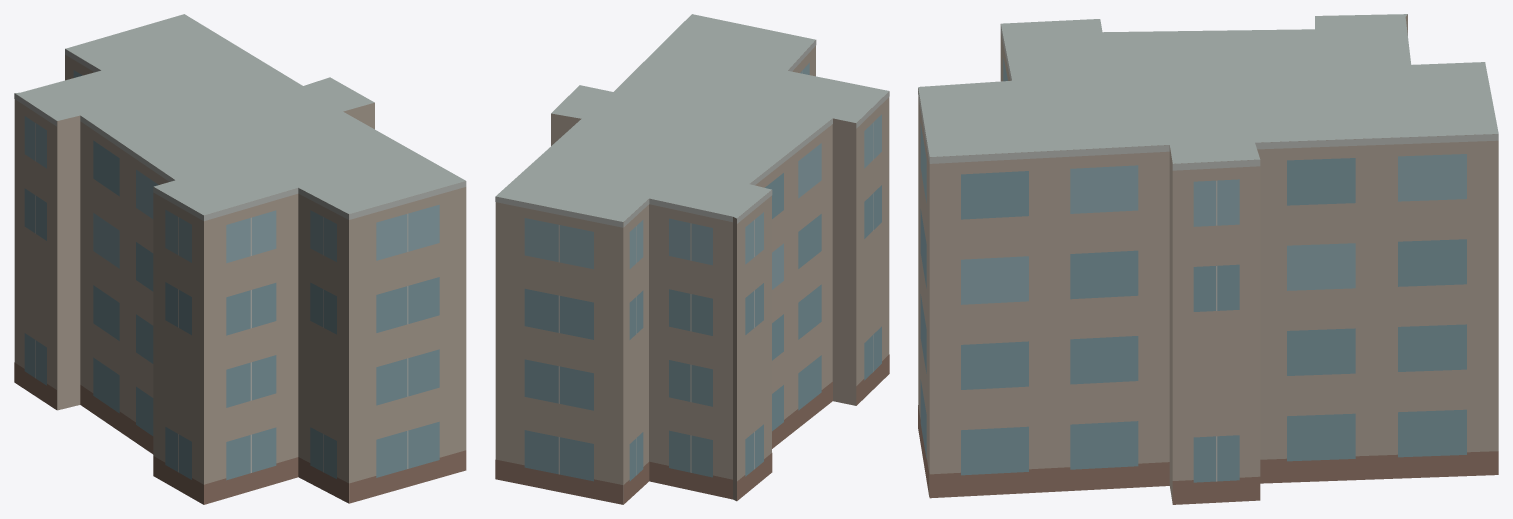
The model's file is survey-upis-32991636.glb.
The picture shows the model from 3 angles, left to right: view 1: azimuth 30°, elevation 25°; view 2: azimuth 150°, elevation 25°; view 3: azimuth 270°, elevation 25°; orthographic projection. The views are drawn at different scales.
Parts seen in each view (by area): view 1: survey-upis-32991636.tmp; view 2: survey-upis-32991636.tmp; view 3: survey-upis-32991636.tmp.
Part boxes in pixels (box(x1,y1,x2,y2)): survey-upis-32991636.tmp: box(14, 14, 466, 504); survey-upis-32991636.tmp: box(495, 14, 889, 504); survey-upis-32991636.tmp: box(918, 14, 1498, 504).
Bounding box in the file's own units: 11.51 × 12.2 × 18.84.
